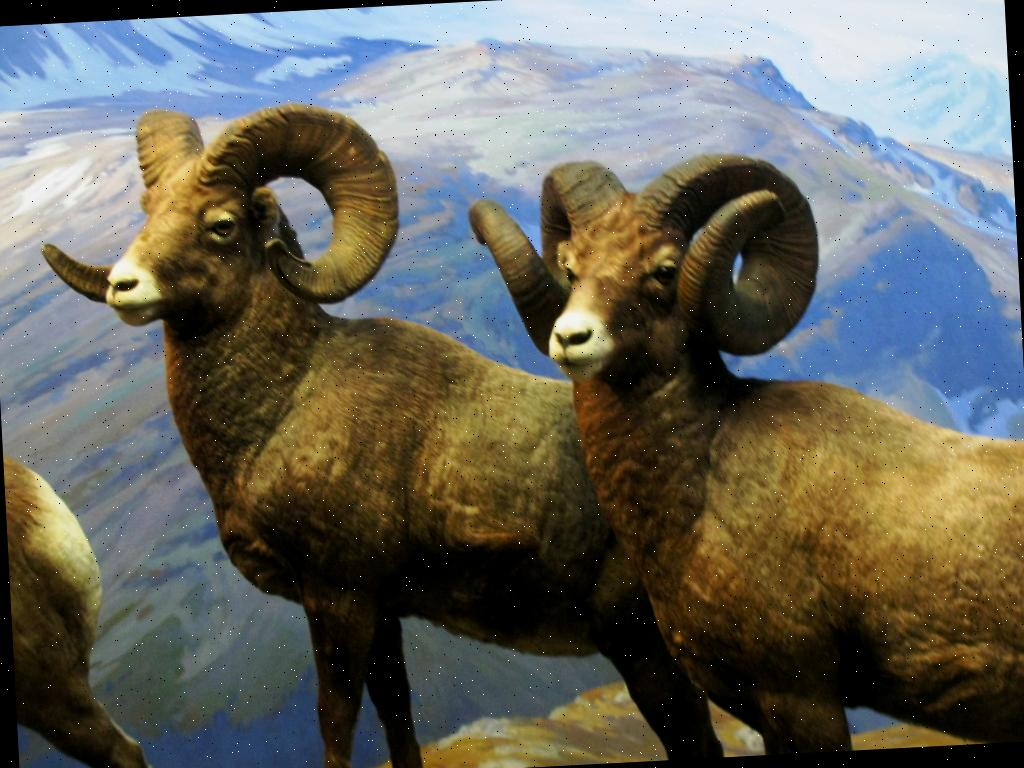Sheep: (33, 80, 723, 768), (467, 142, 1024, 768), (3, 453, 153, 768)
